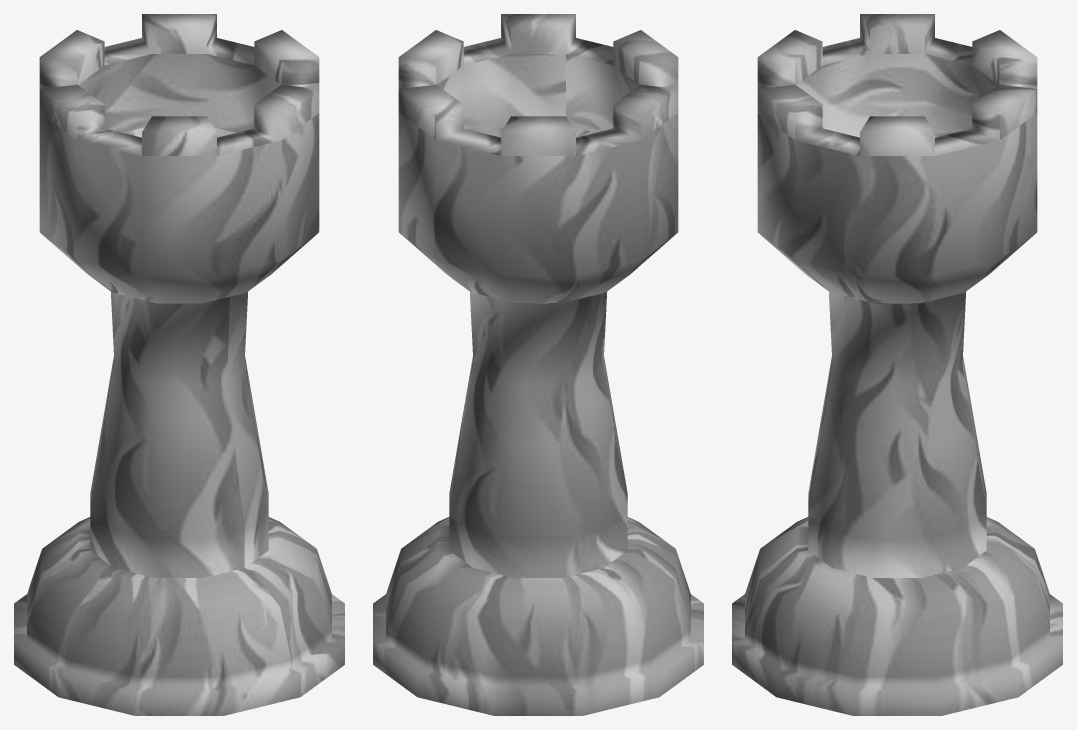
The model's file is Rook.glb.
3 renders of one model, left to right at view 1: azimuth 30°, elevation 25°; view 2: azimuth 150°, elevation 25°; view 3: azimuth 270°, elevation 25°, orthographic.
Visible parts, largest first — view 1: Rook; view 2: Rook; view 3: Rook.
Boxes of the visible parts, x1,y1,x2,y2 form: Rook: (14, 14, 344, 715); Rook: (373, 14, 703, 715); Rook: (732, 14, 1062, 715).
Size of the model in its own units: 0.1256 by 0.24 by 0.1256.
Materials: 1 (1 with a texture image).
